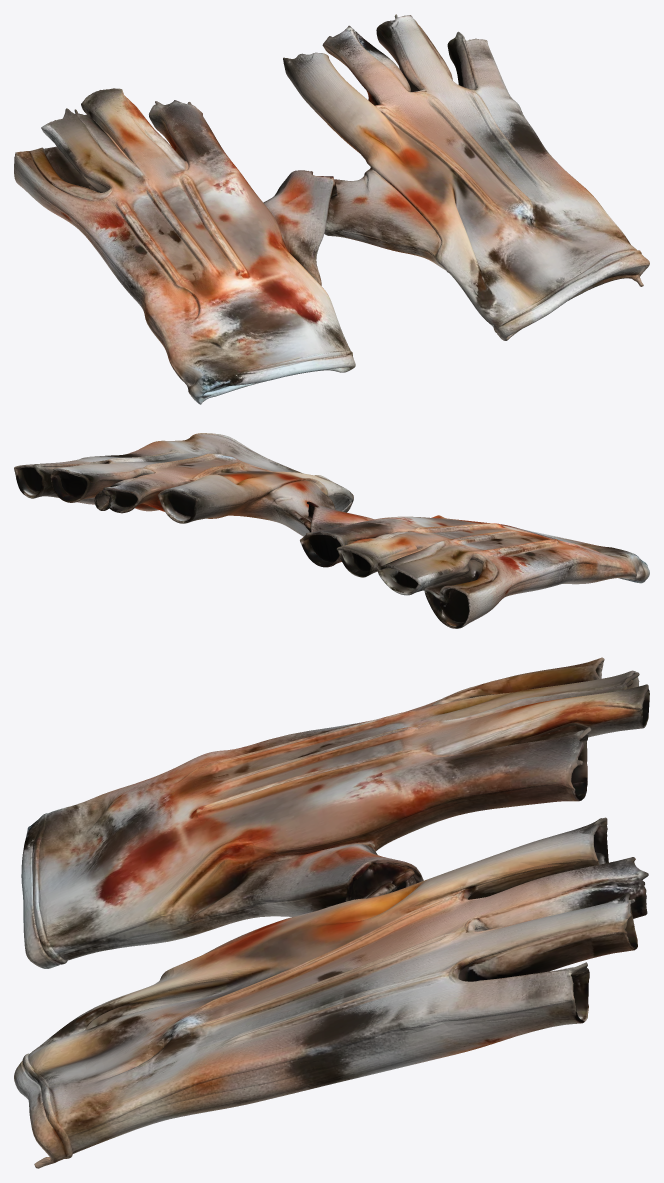
Rendered from mitaines_terrifier.glb.
The picture shows the model from 3 angles, top to bottom: view 1: azimuth 30°, elevation 25°; view 2: azimuth 150°, elevation 25°; view 3: azimuth 270°, elevation 25°; orthographic projection. The views are drawn at different scales.
Visible parts, largest first — view 1: node_0; view 2: node_0; view 3: node_0.
Boxes of the visible parts, x1,y1,x2,y2 form: node_0: (14,14,649,404); node_0: (14,433,649,628); node_0: (14,657,649,1168).
Bounding box in the file's own units: 0.972 × 0.3306 × 0.7366.
1 material, 1 textured.
